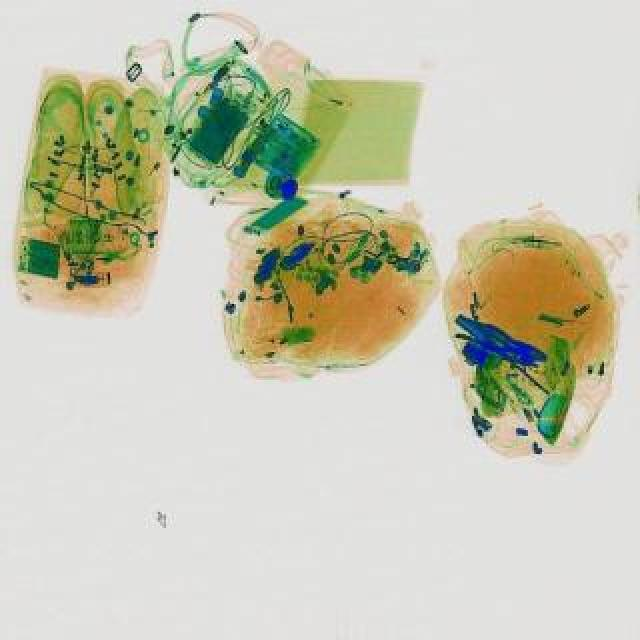wrench: (450, 314, 554, 374)
